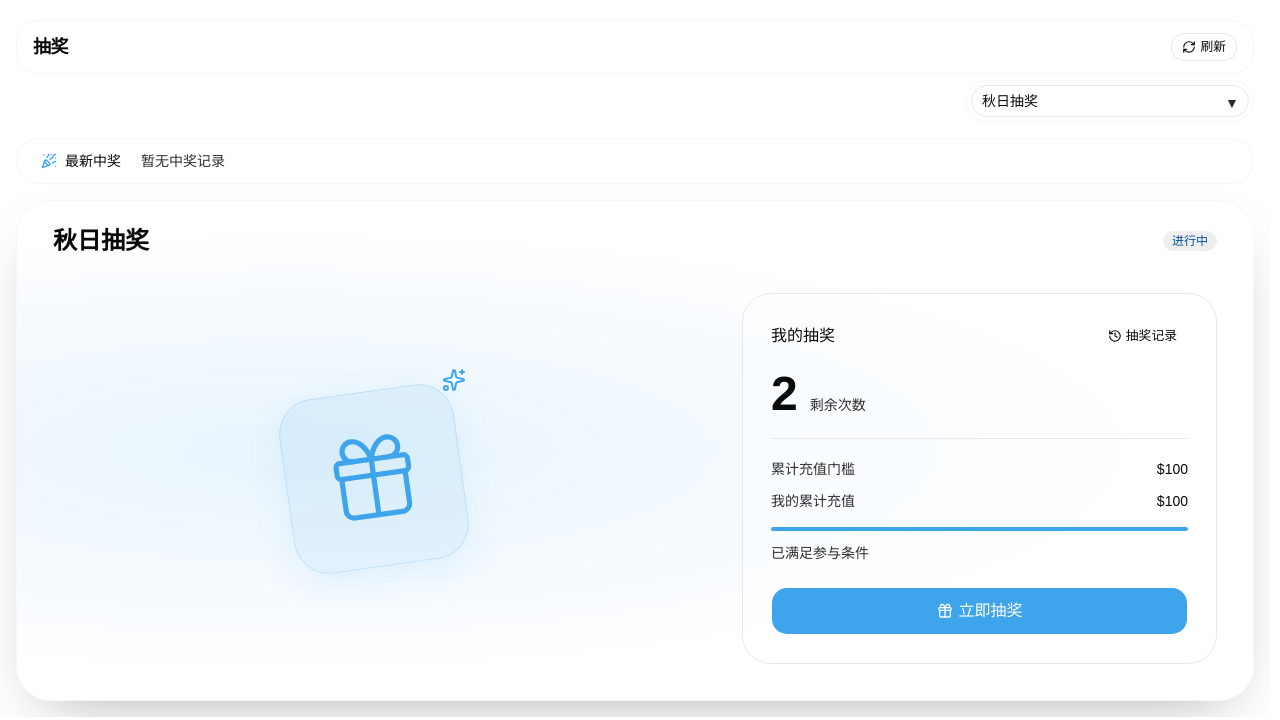
Test: 抽奖界面 › 只展示一个完整活动，切换历史活动不覆盖当前活动
The image size is (1280, 720).
expect the element "上期抽奖" is not shown: met
Click the dropdown named "切换活动" at (1010,101), box [971,85,1249,117]
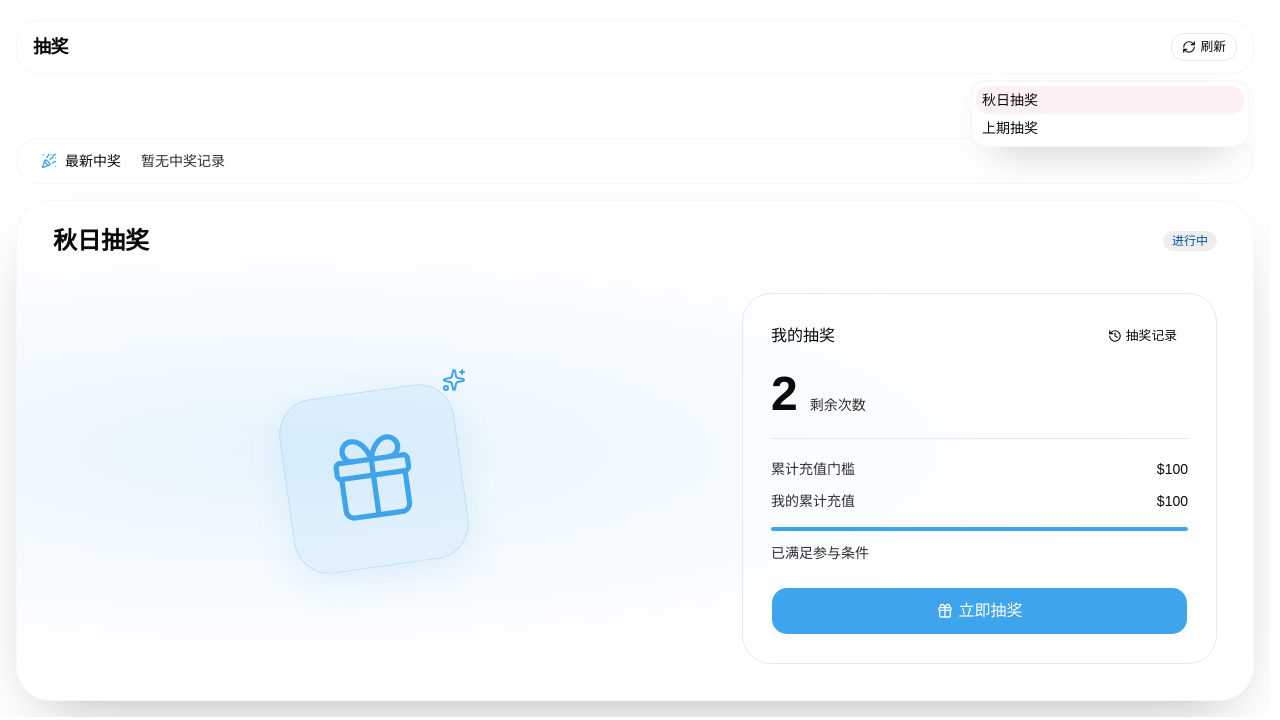
Click the option "上期抽奖" at (1010,128), box [982,120,1038,136]
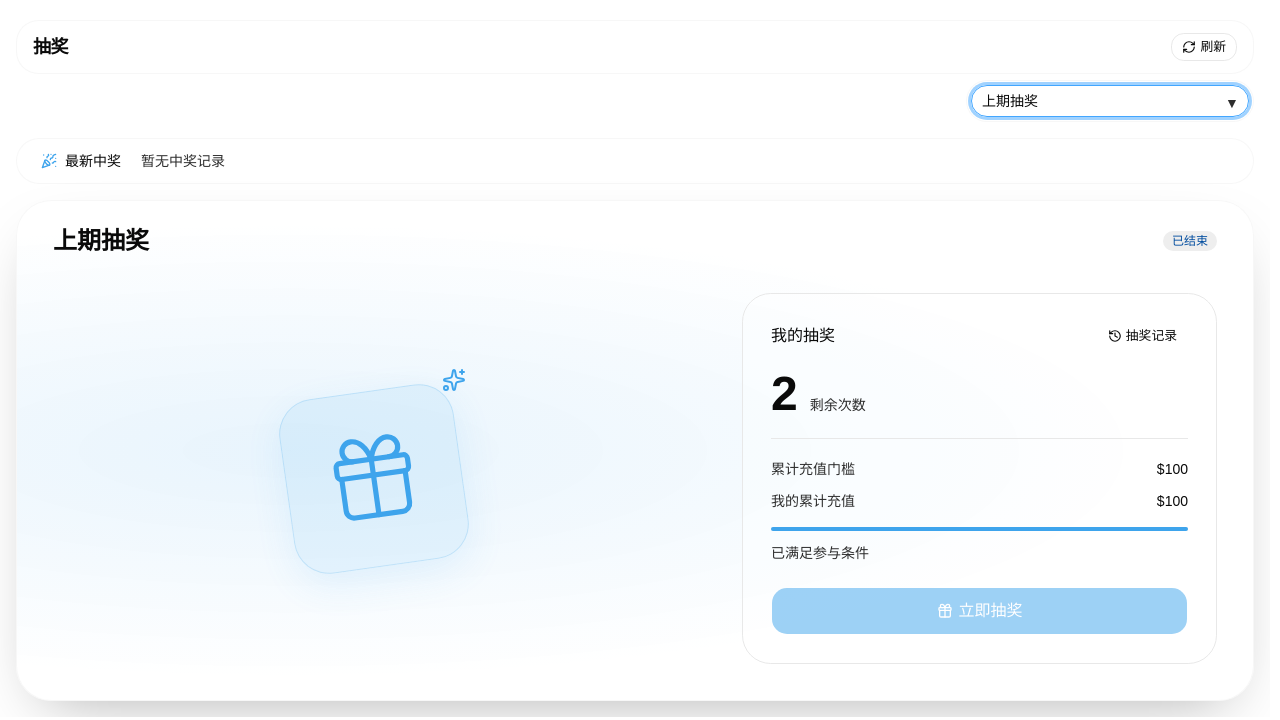
expect the element "上期抽奖" is shown: met
expect the dropdown labelled "秋日抽奖" is gone: met
expect the button "立即抽奖" is disabled: met, box [771,587,1188,635]
